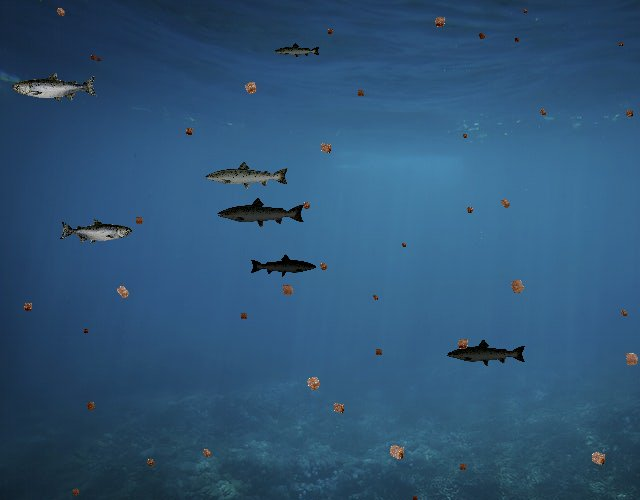Fish: (216, 196, 306, 229), (204, 160, 290, 191), (12, 72, 98, 103), (446, 338, 527, 368), (60, 219, 133, 245), (250, 253, 318, 278), (275, 42, 322, 59)
Pellet: (314, 137, 337, 160), (495, 193, 515, 213), (51, 3, 70, 22), (181, 123, 198, 140), (372, 345, 386, 359), (87, 51, 100, 64), (460, 130, 470, 140)
